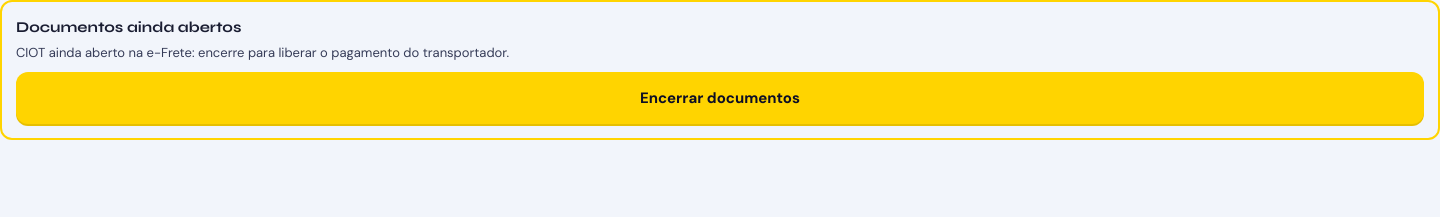
Scenario: mostra o erro da rota sem esconder o botão
Click the button "Encerrar documentos".
click(720, 98)  # box left=16, top=72, right=1424, bottom=124
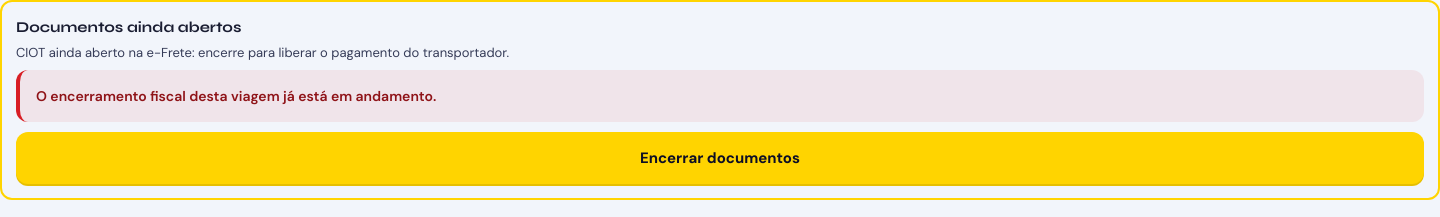
Check: the button "Encerrar documentos" is enabled, box left=16, top=132, right=1424, bottom=184
Check: the message shows "já está em andamento", box left=36, top=87, right=436, bottom=105
